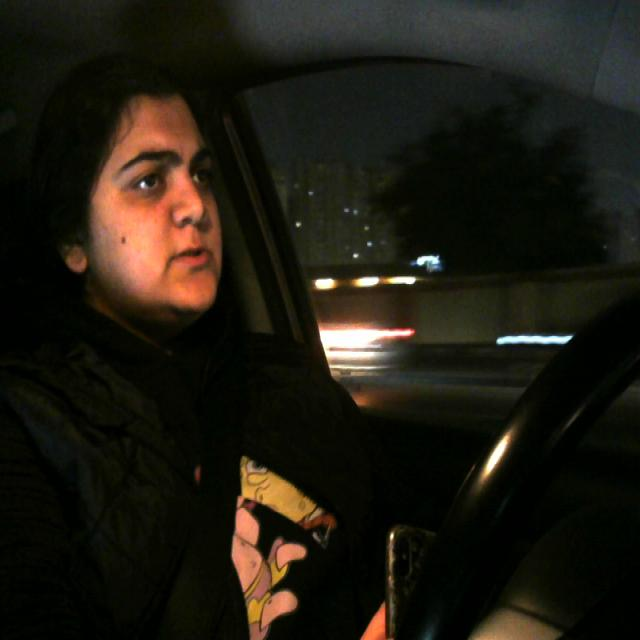mobile use: (367, 522, 449, 640)
